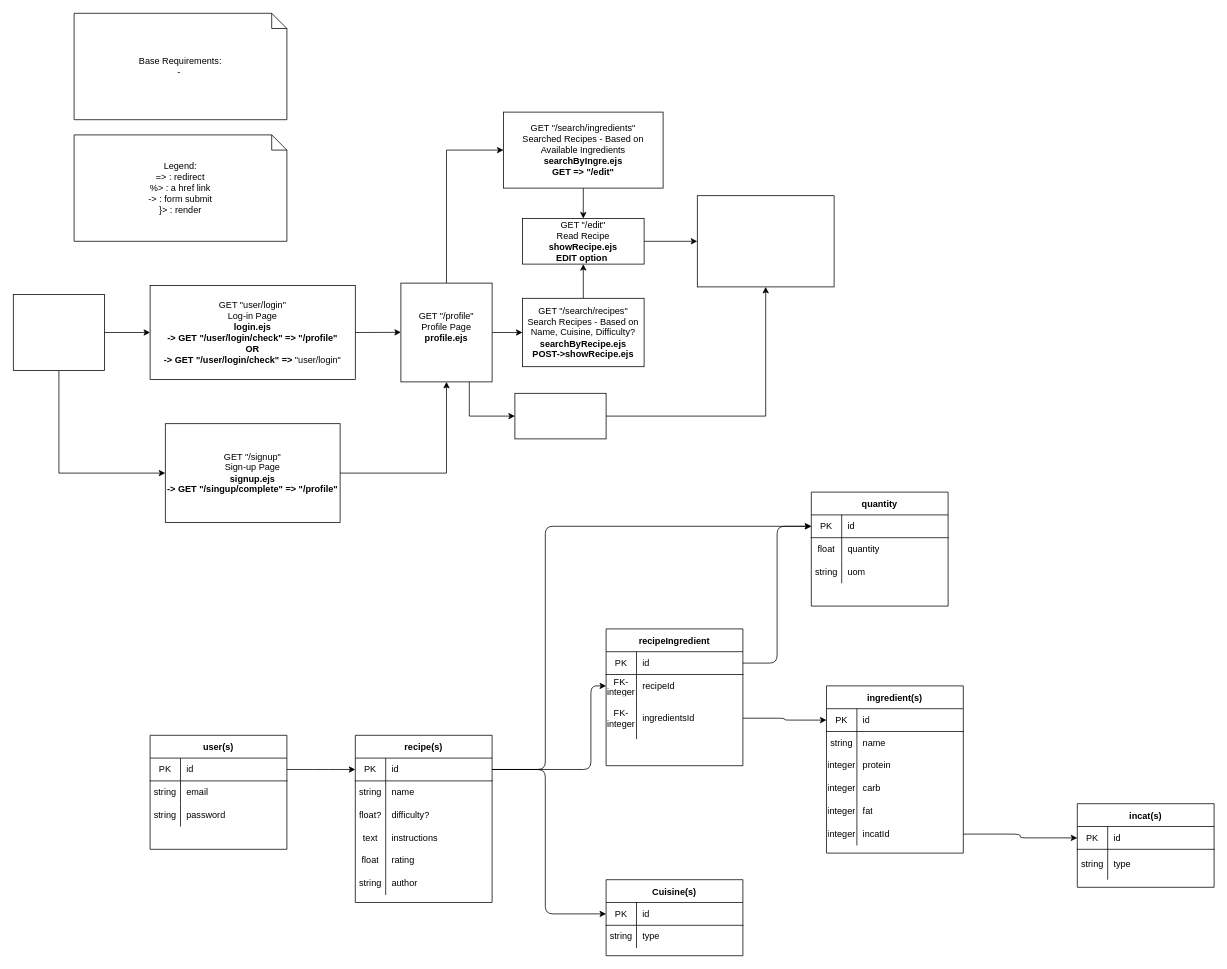
This 1227x969 diagram has some shape labels left out. Each missing label, with the centre of its shape:
GET "/" Home Page index.ejs %> "user/ogin" OR %> "/signup": (58,332)
GET "/edit" Customize/Edit Recipe editRecipie.ejs POST => "edit": (765,241)
View Saved Recipes savedRecipes.ejs GET: (560,416)
